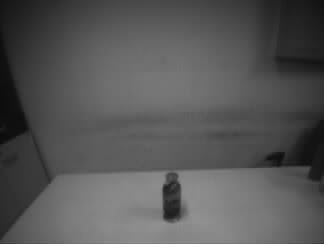Bottle: (163, 173, 181, 222)
